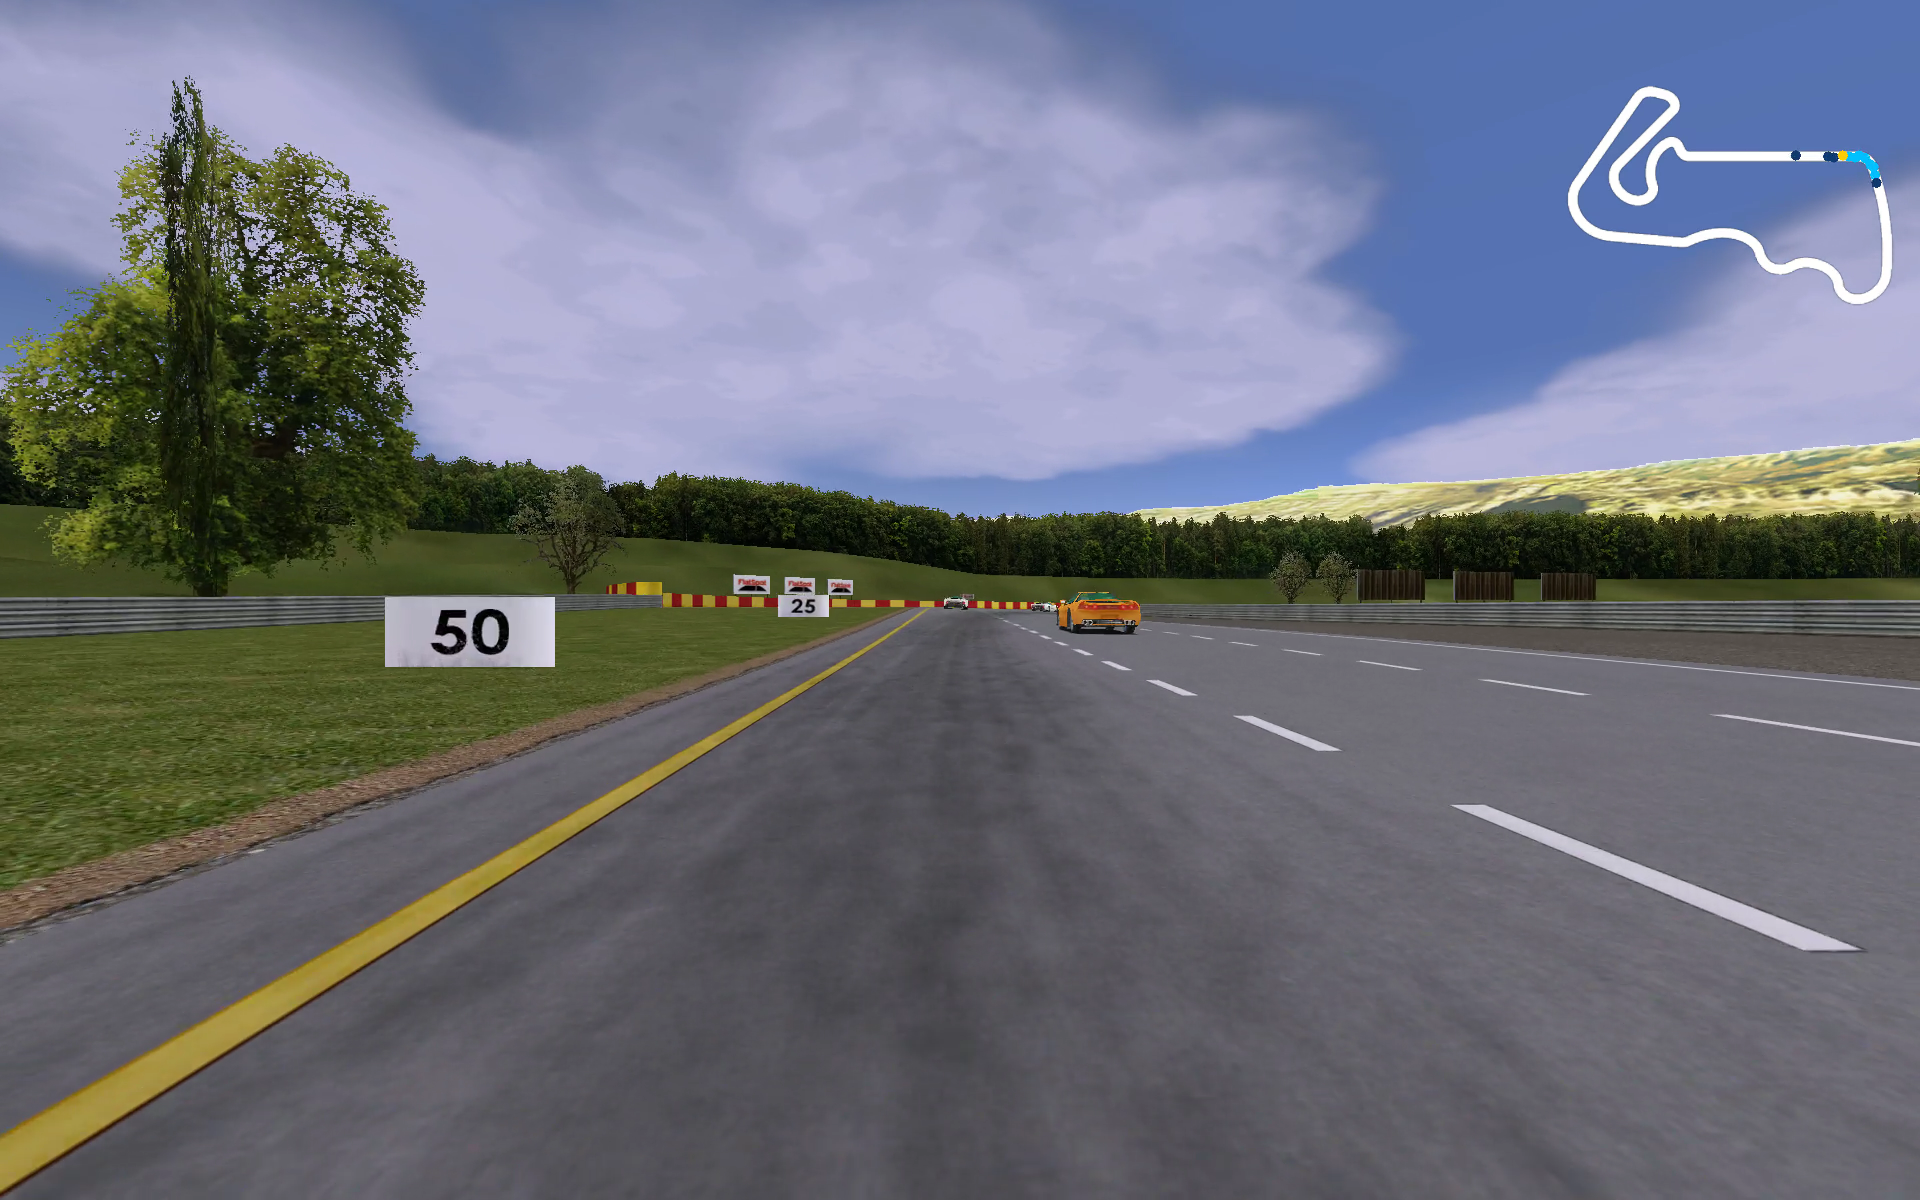car: (1057, 590, 1143, 635), (941, 597, 969, 611), (1030, 600, 1055, 612)
